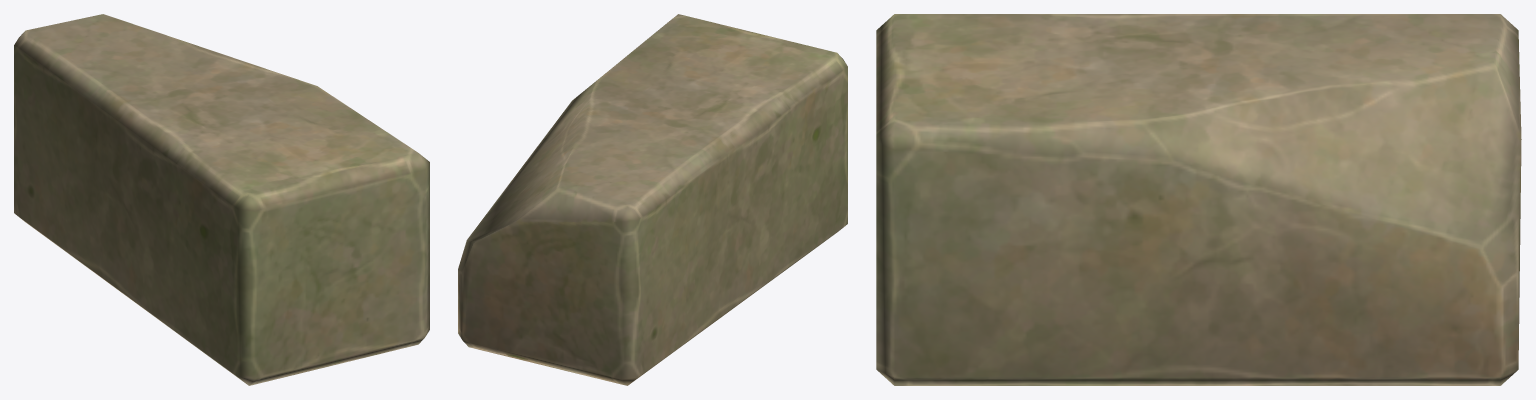
File: SM_Brick_Kit_4.fbx
The picture shows the model from 3 angles, left to right: view 1: azimuth 30°, elevation 25°; view 2: azimuth 150°, elevation 25°; view 3: azimuth 270°, elevation 25°; orthographic projection. The views are drawn at different scales.
Parts seen in each view (by area): view 1: SM_Brick_Kit_4_LOD0; view 2: SM_Brick_Kit_4_LOD0; view 3: SM_Brick_Kit_4_LOD0.
Part boxes in pixels (box(x1,y1,x2,y2)): SM_Brick_Kit_4_LOD0: box(14, 14, 429, 385); SM_Brick_Kit_4_LOD0: box(458, 14, 847, 385); SM_Brick_Kit_4_LOD0: box(876, 14, 1521, 385).
Bounding box in the file's own units: 20 × 42.85 × 19.05.
Materials: 1 (1 with a texture image).
